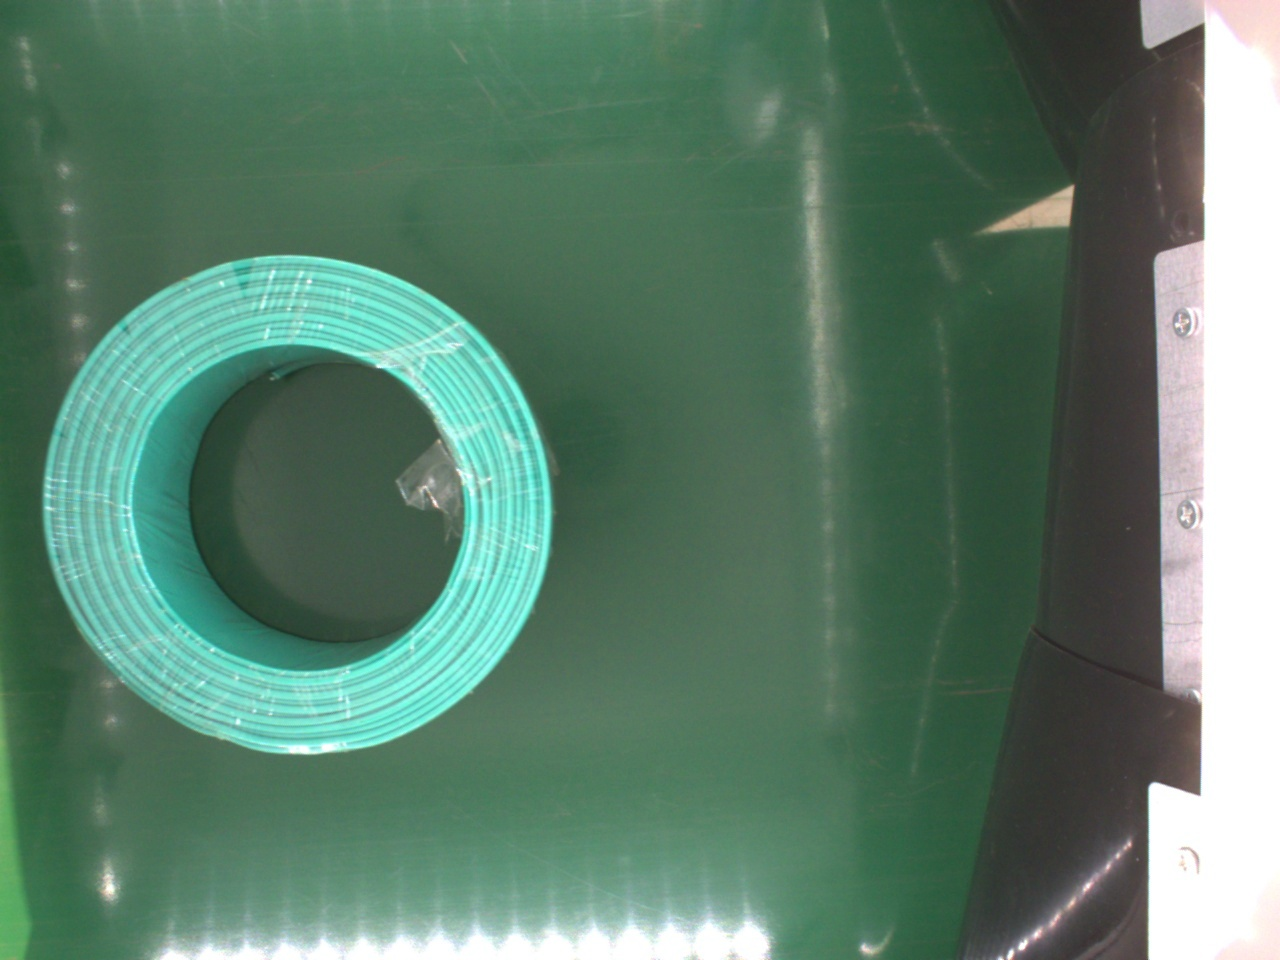green: (38, 252, 557, 759)
